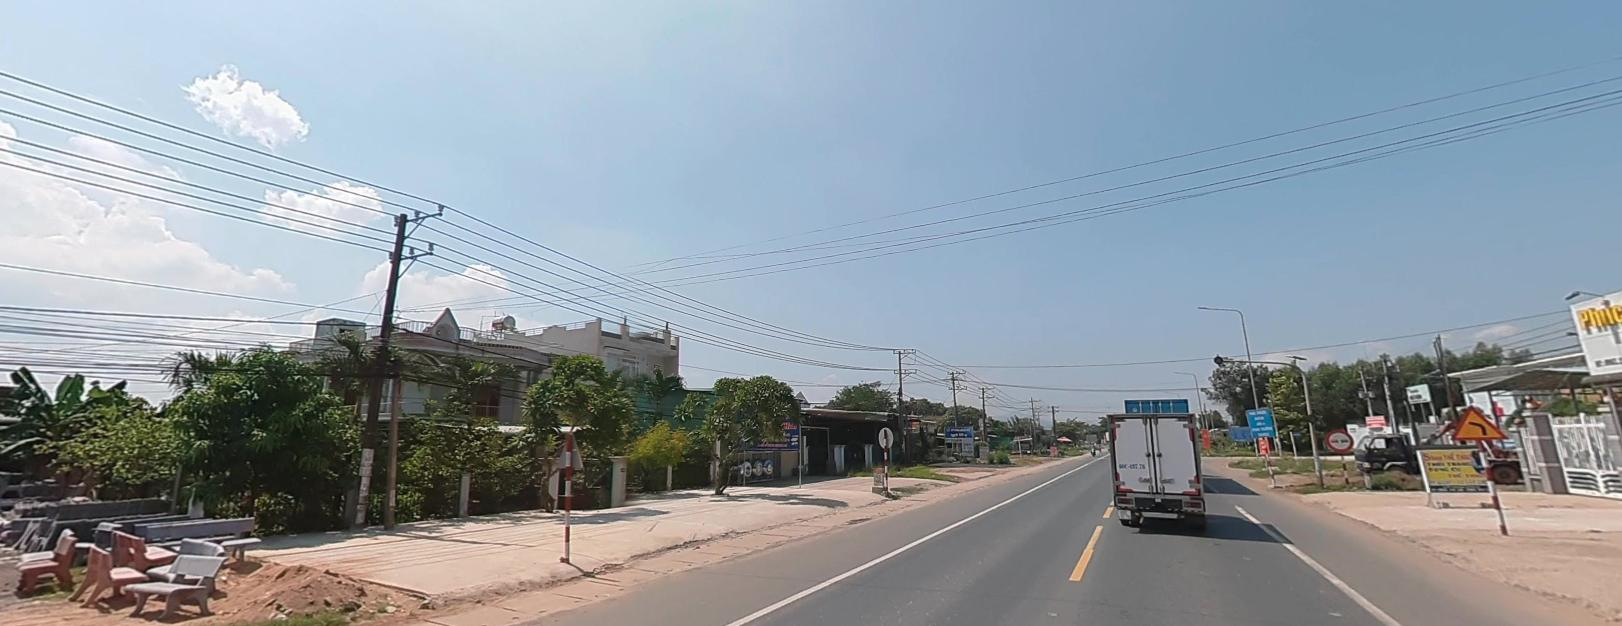Cam con lai: (1325, 428, 1354, 450)
Nguy hiem: (1449, 403, 1510, 440)
